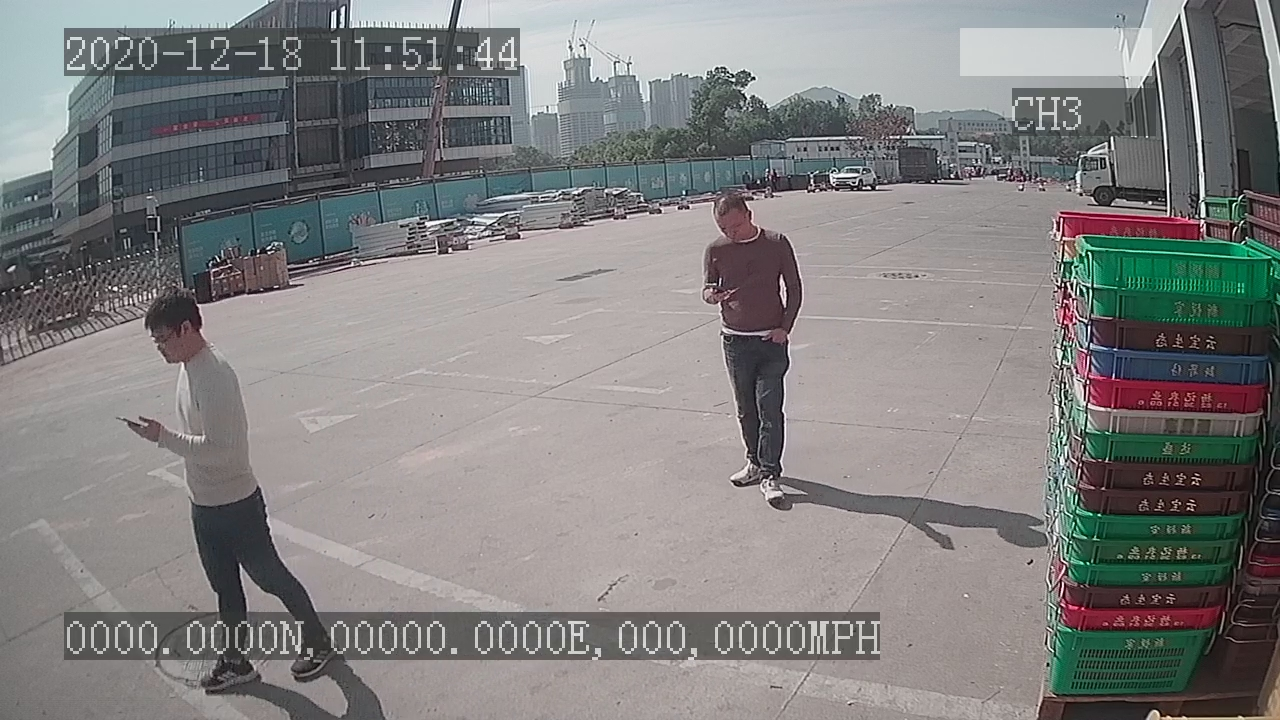person: (695, 188, 813, 515)
